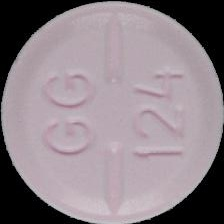24236-652: (0, 0, 224, 224)
